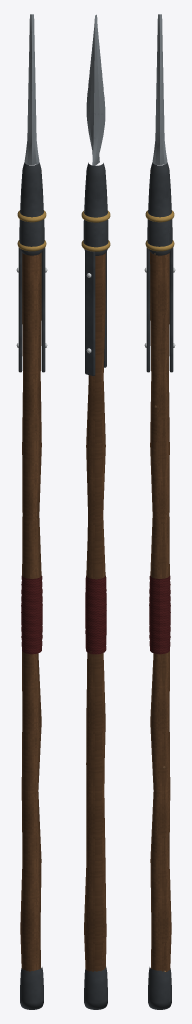
Rendered from javelin.lod1.glb.
3 views of the same model, side by side, from view 1: azimuth 90°, elevation 25°; view 2: azimuth 150°, elevation 25°; view 3: azimuth 270°, elevation 25° (orthographic).
Parts seen in each view (by area): view 1: wood / oiled hardwood, darksteel / oil-blackened fittings, cord / waxed silk cord wrap, steel / forged blade steel, brass / polished brass furniture; view 2: wood / oiled hardwood, darksteel / oil-blackened fittings, steel / forged blade steel, cord / waxed silk cord wrap, brass / polished brass furniture; view 3: wood / oiled hardwood, darksteel / oil-blackened fittings, cord / waxed silk cord wrap, steel / forged blade steel, brass / polished brass furniture.
Boxes of the visible parts, x1,y1,x2,y2 form: wood / oiled hardwood: (20, 171, 41, 971); darksteel / oil-blackened fittings: (18, 162, 45, 1009); cord / waxed silk cord wrap: (21, 576, 42, 654); steel / forged blade steel: (24, 14, 39, 164); brass / polished brass furniture: (17, 210, 46, 251); wood / oiled hardwood: (84, 253, 106, 971); darksteel / oil-blackened fittings: (83, 162, 108, 1009); steel / forged blade steel: (86, 14, 105, 165); cord / waxed silk cord wrap: (85, 576, 106, 654); brass / polished brass furniture: (81, 210, 110, 251); wood / oiled hardwood: (150, 171, 171, 971); darksteel / oil-blackened fittings: (146, 162, 173, 1009); cord / waxed silk cord wrap: (149, 576, 170, 654); steel / forged blade steel: (152, 14, 167, 164); brass / polished brass furniture: (145, 210, 174, 251).
Bounding box in the file's own units: 0.042 × 1.58 × 0.044.
8 materials, 6 textured.
